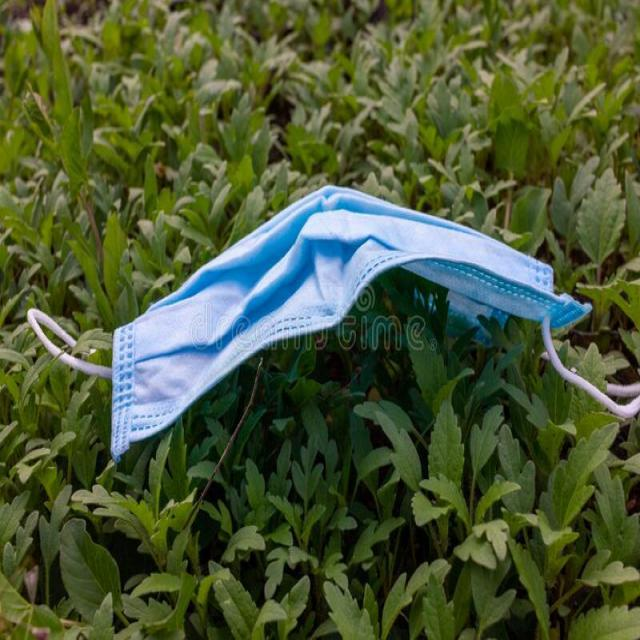face mask: (29, 192, 636, 460)
